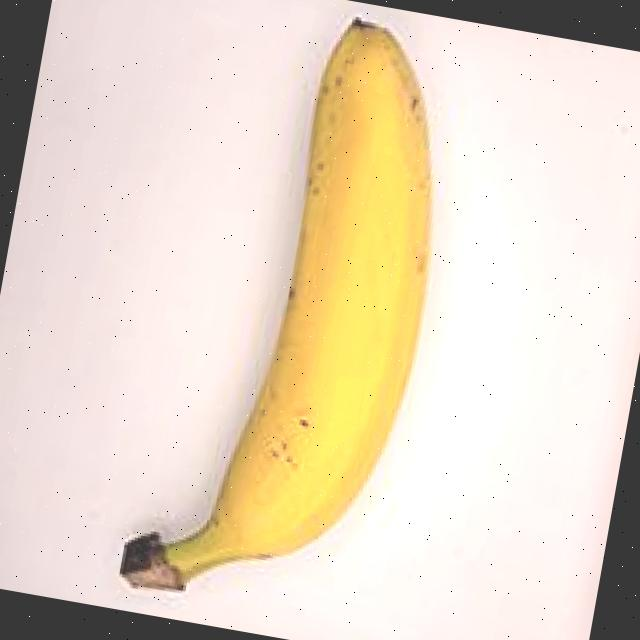Ripe: (36, 0, 515, 640)
